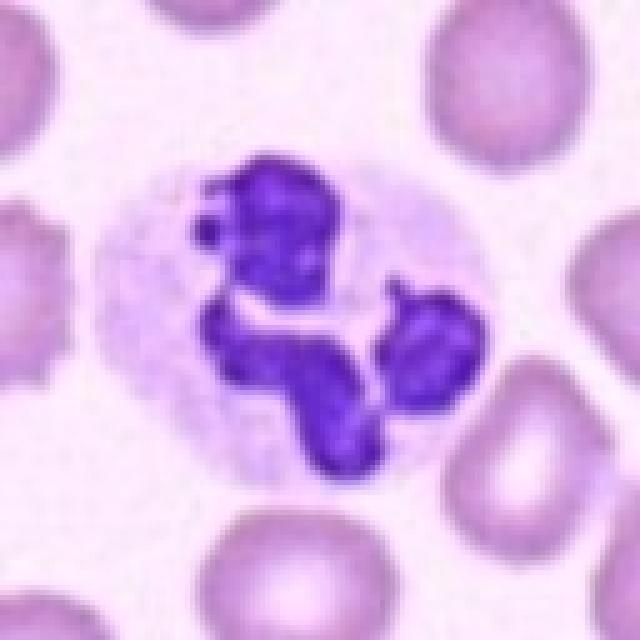neutro: (88, 90, 587, 540)
